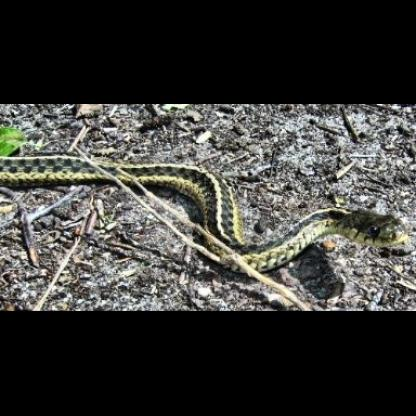Snake: (4, 141, 412, 270)
